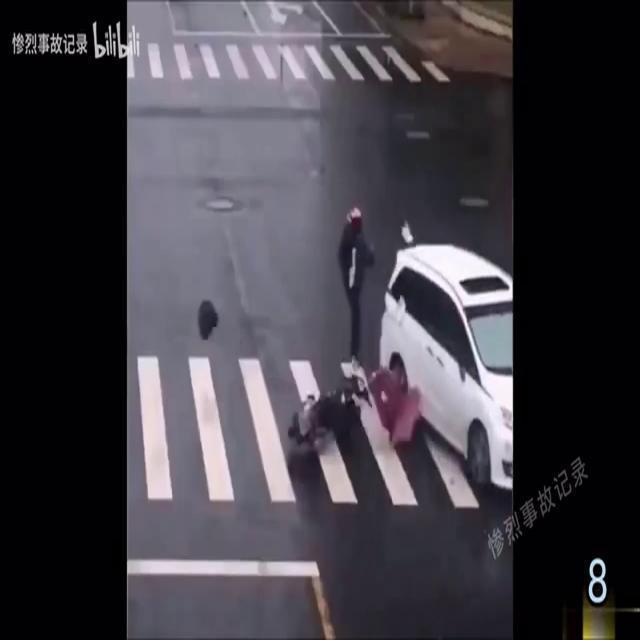accident: (286, 372, 372, 460)
